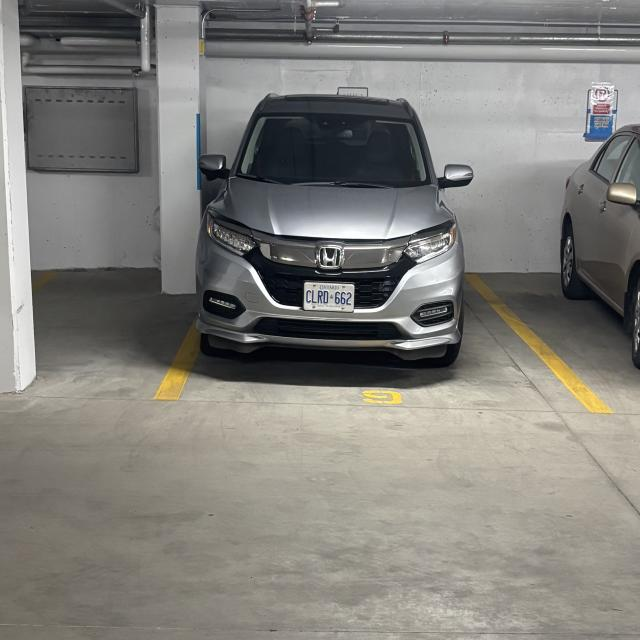plaque: (304, 282, 354, 312)
